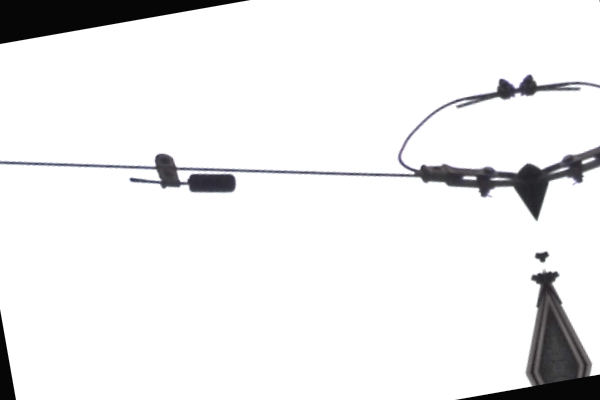damper_defect: (125, 151, 238, 194)
